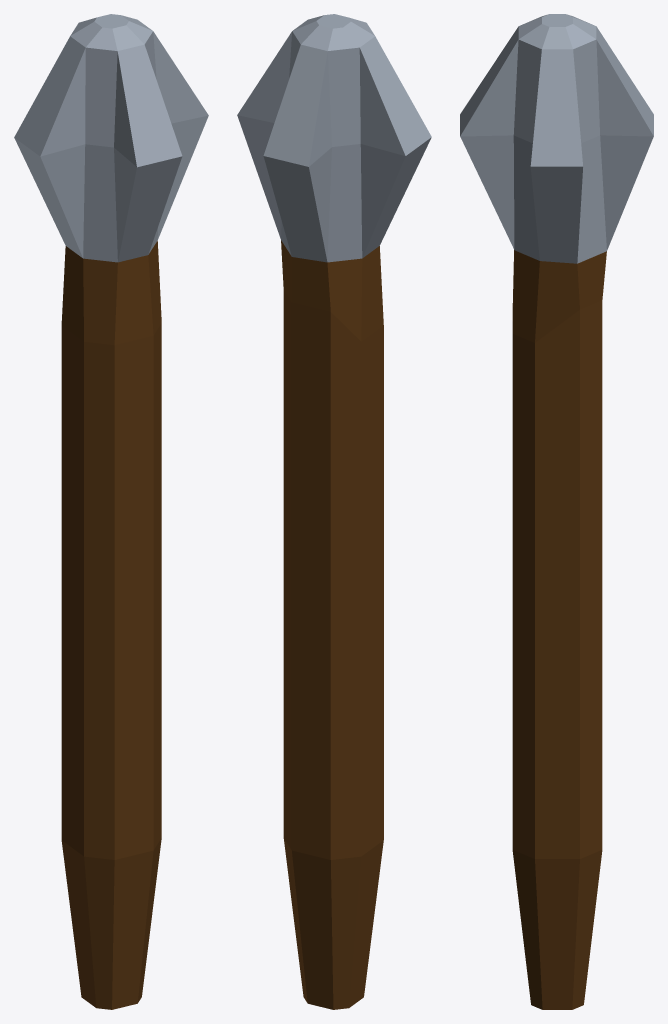
The model's file is SteelMace.glb.
3 views of the same model, side by side, from view 1: azimuth 30°, elevation 25°; view 2: azimuth 150°, elevation 25°; view 3: azimuth 270°, elevation 25° (orthographic).
Parts seen in each view (by area): view 1: Mace; view 2: Mace; view 3: Mace.
Part boxes in pixels (x1,y1,x2,y2): Mace: [14, 14, 208, 1009]; Mace: [237, 14, 431, 1009]; Mace: [460, 14, 653, 1009].
Bounding box in the file's own units: 0.1021 × 0.5647 × 0.1013.
